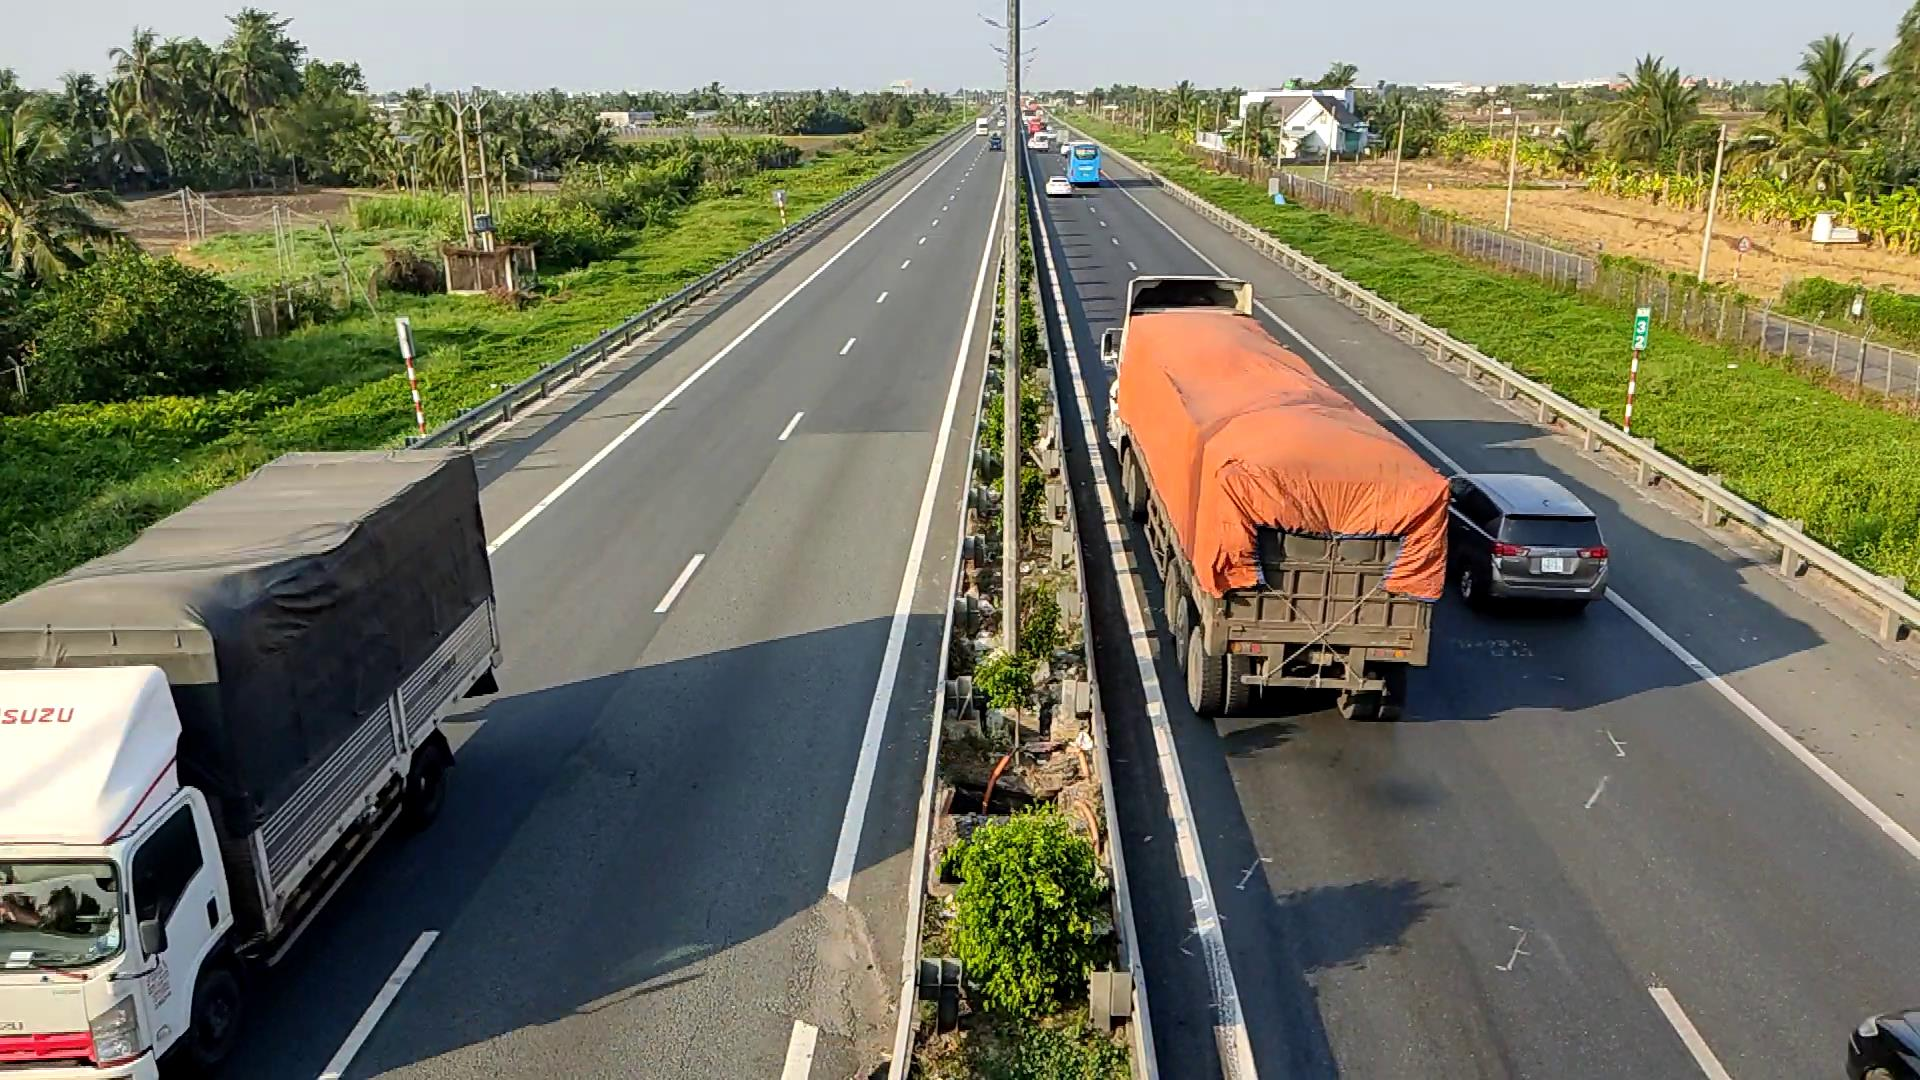car: (1460, 448, 1613, 621), (1842, 1005, 1917, 1077)
truck: (1, 447, 505, 1068), (1101, 272, 1451, 721)
